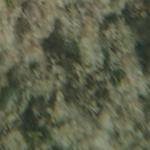dead: (29, 34, 135, 138)
